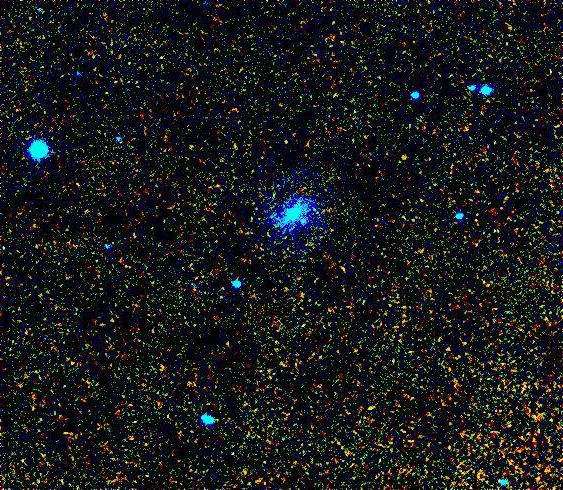star: (394, 146, 424, 176)
